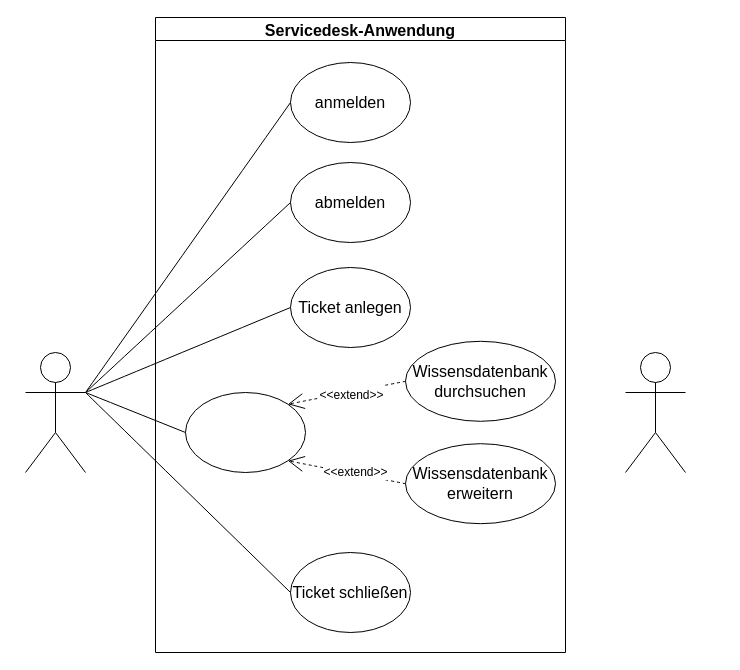
The diagram is 740 pixels wide and 670 high, and some of its shapes have lost their labels. The shapes that lost their labels are listed below. From the top down, each one's centre as x and y in pixels, then its label:
point 55,412: Mitarbeiter
point 245,432: Ticket bearbeiten
point 655,412: Wissensdatenbank
